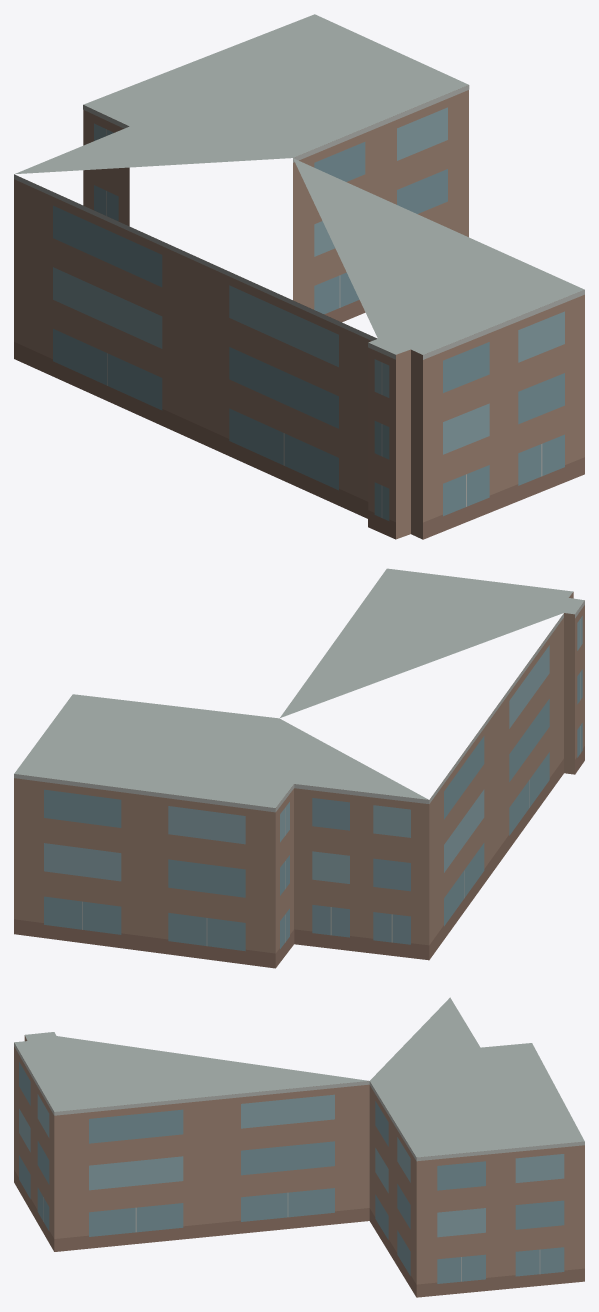
Rendered from survey-upis-32737852.glb.
3 views of the same model, one above another, from view 1: azimuth 30°, elevation 25°; view 2: azimuth 150°, elevation 25°; view 3: azimuth 270°, elevation 25° (orthographic). The views are drawn at different scales.
Parts seen in each view (by area): view 1: survey-upis-32737852.tmp; view 2: survey-upis-32737852.tmp; view 3: survey-upis-32737852.tmp.
Part boxes in pixels (x1,y1,x2,y2): survey-upis-32737852.tmp: (14,14,584,539); survey-upis-32737852.tmp: (14,568,584,968); survey-upis-32737852.tmp: (14,997,584,1297).
Bounding box in the file's own units: 22.46 × 9.15 × 33.81.
